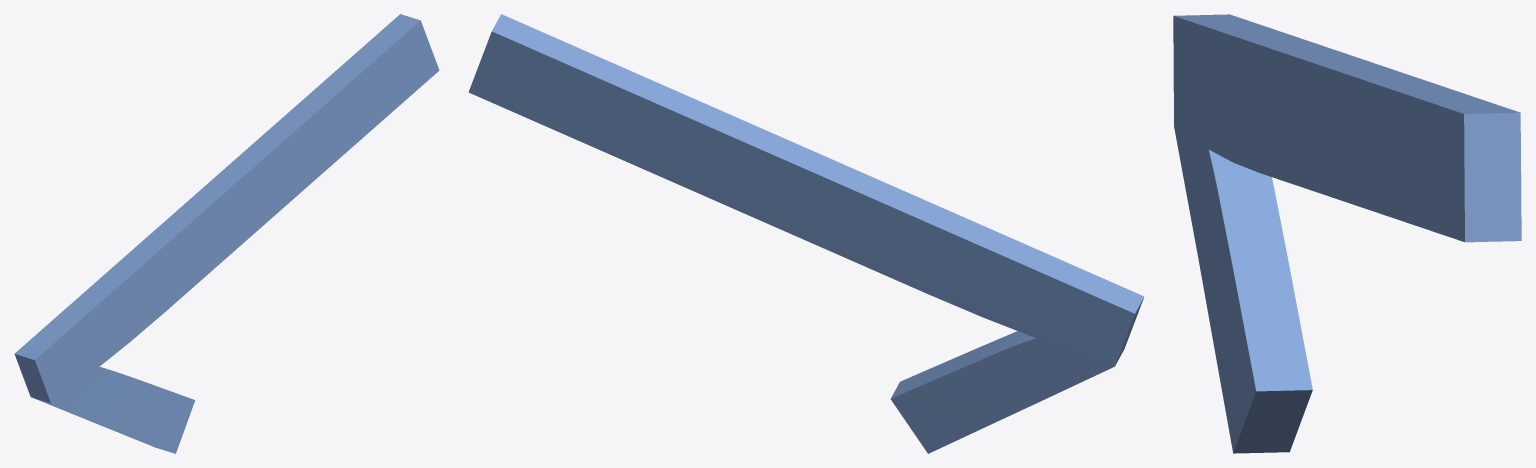
Rendered from Number_1.gltf.
3 views of the same model, side by side, from view 1: azimuth 30°, elevation 25°; view 2: azimuth 150°, elevation 25°; view 3: azimuth 270°, elevation 25° (orthographic). The views are drawn at different scales.
Parts seen in each view (by area): view 1: Sub_2_Cell_2_3_Number_1; view 2: Sub_2_Cell_2_3_Number_1; view 3: Sub_2_Cell_2_3_Number_1.
Part boxes in pixels (x1=…): Sub_2_Cell_2_3_Number_1: x1=14, y1=14, x2=439, y2=453; Sub_2_Cell_2_3_Number_1: x1=468, y1=14, x2=1144, y2=453; Sub_2_Cell_2_3_Number_1: x1=1173, y1=14, x2=1521, y2=453.
Size of the model in its own units: 0.0242 by 0.0153 by 0.00754.
